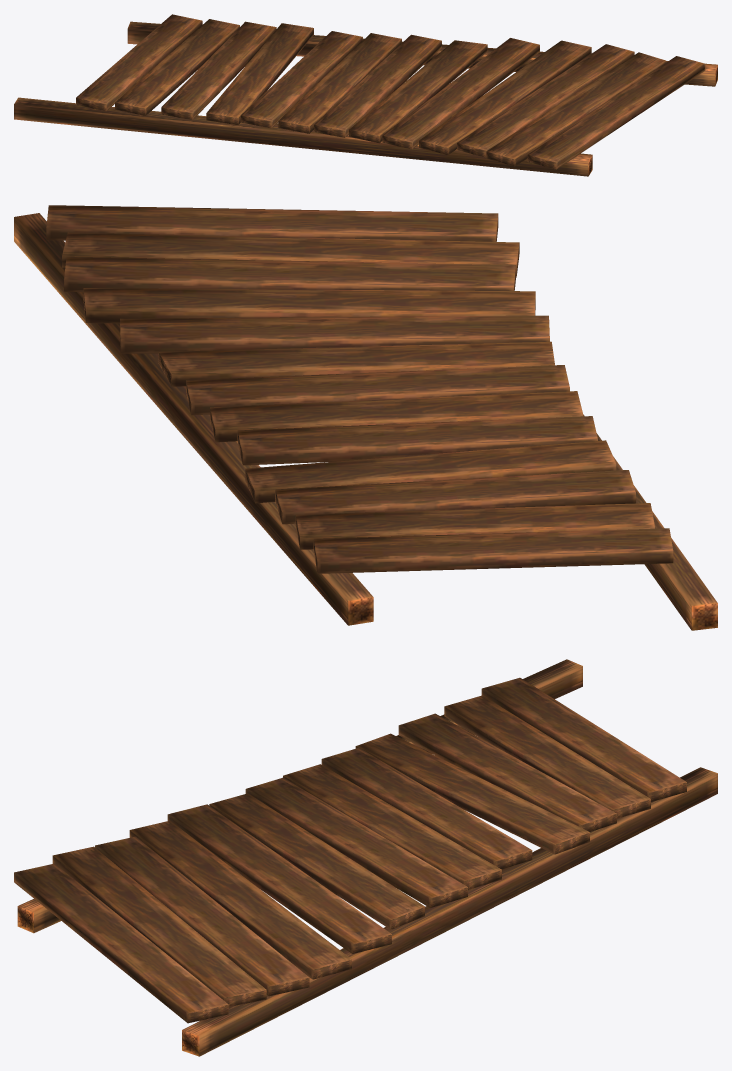
Rendered from SWORDLIGHT20_JAILPLATFORM03.fbx.
3 renders of one model, top to bottom at view 1: azimuth 30°, elevation 25°; view 2: azimuth 150°, elevation 25°; view 3: azimuth 270°, elevation 25°, orthographic. The views are drawn at different scales.
Visible parts, largest first — view 1: SWORDLIGHT20_JAILPLATFORM03; view 2: SWORDLIGHT20_JAILPLATFORM03; view 3: SWORDLIGHT20_JAILPLATFORM03.
Part boxes in pixels (x1,y1,x2,y2): SWORDLIGHT20_JAILPLATFORM03: (14, 14, 717, 176); SWORDLIGHT20_JAILPLATFORM03: (14, 205, 717, 630); SWORDLIGHT20_JAILPLATFORM03: (14, 659, 717, 1056).
Size of the model in its own units: 157121 by 6188 by 124036.
Materials: 2 (2 with a texture image).
